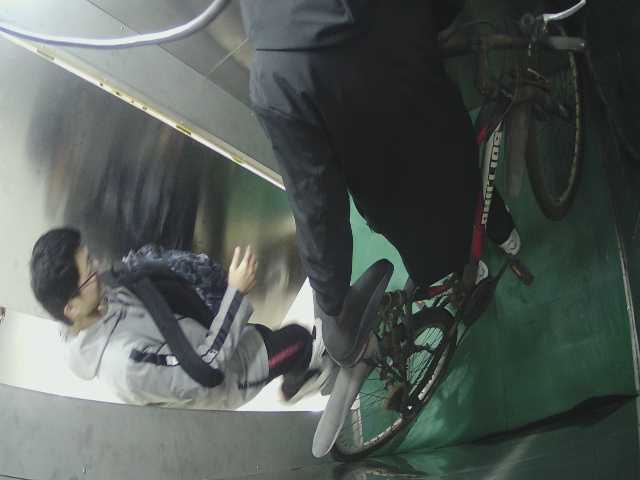bicycle: (305, 1, 597, 468)
person: (21, 215, 340, 396)
